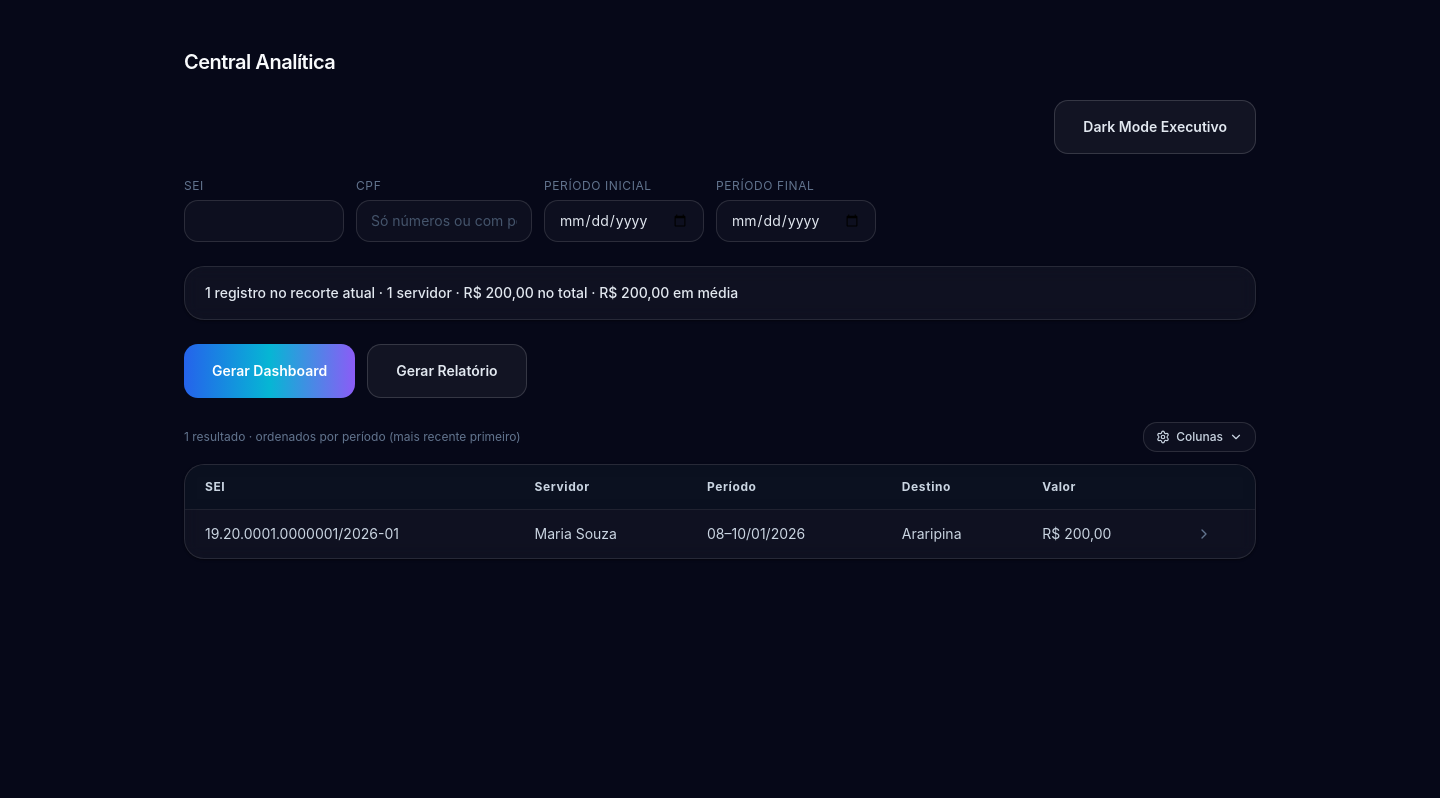
Scenario: CentralAnalitica › clicar em 'Gerar Dashboard' mostra o Dashboard real no lugar da tabela
Click the button "Gerar Dashboard". click: [270, 371]
box: [184, 344, 355, 398]
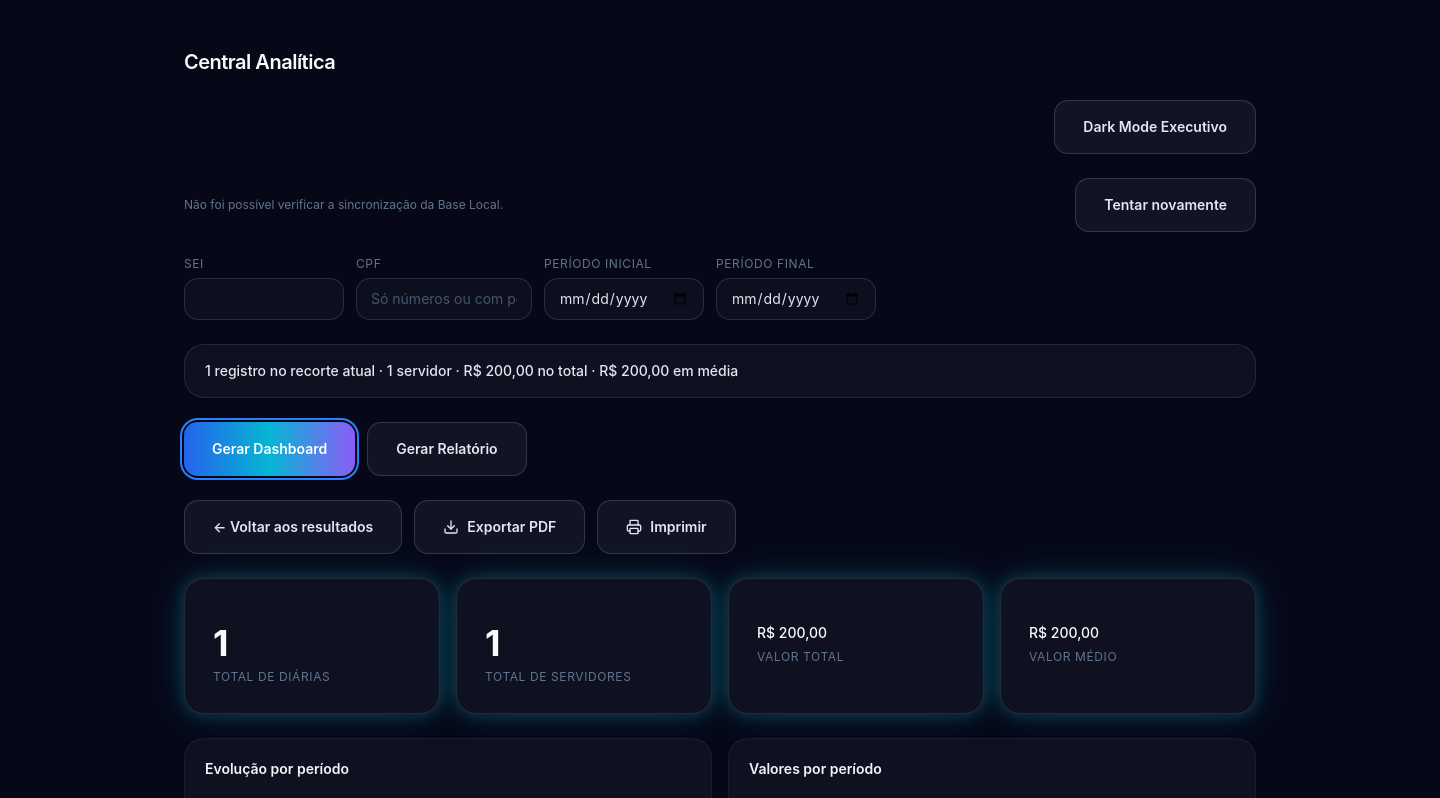
Now the text "Total de diárias" is shown, box [213, 669, 330, 684]
Now the table is gone
